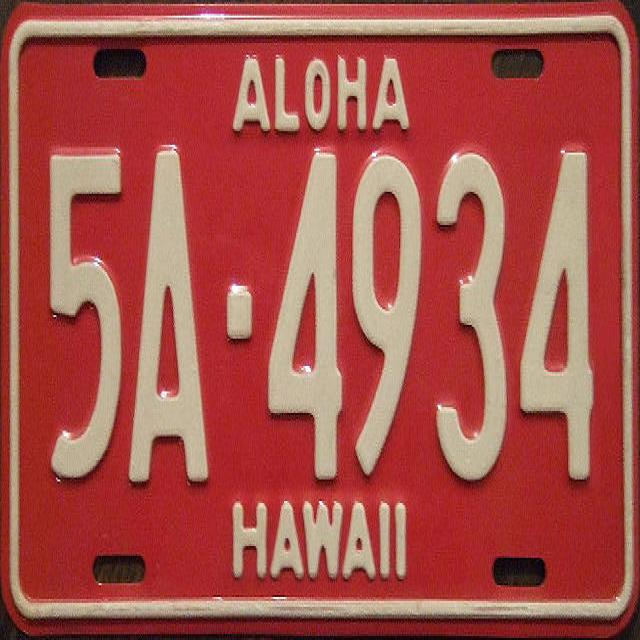placa: (20, 133, 603, 500)
